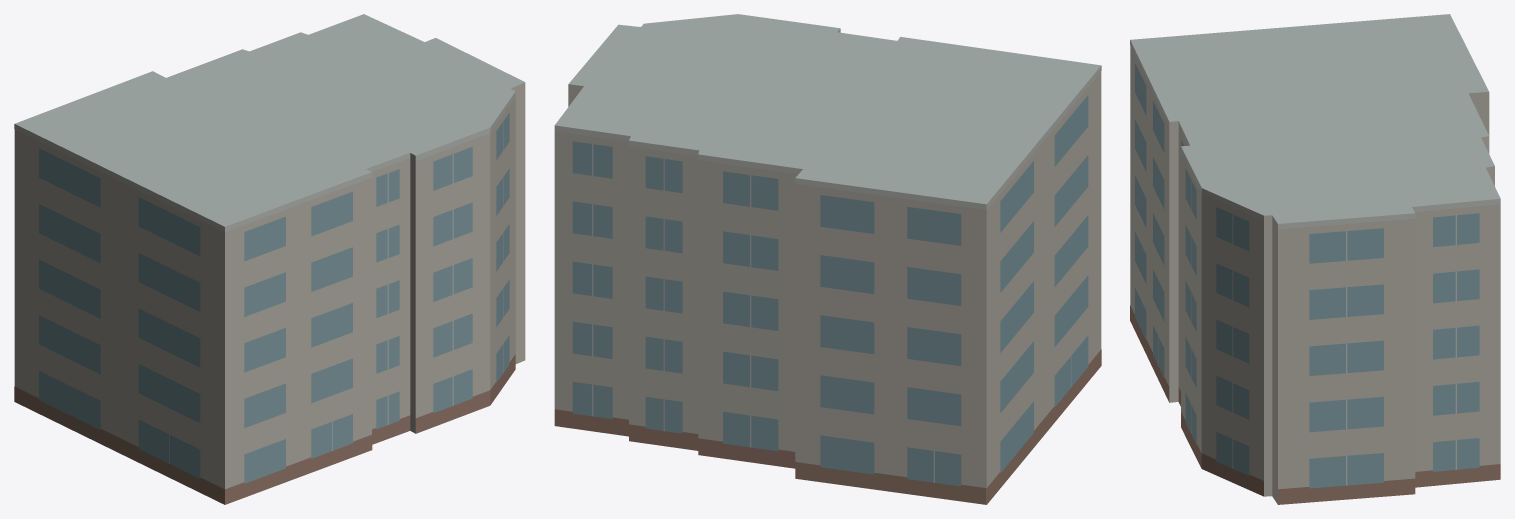
Rendered from survey-upis-32618715.glb.
The picture shows the model from 3 angles, left to right: view 1: azimuth 30°, elevation 25°; view 2: azimuth 150°, elevation 25°; view 3: azimuth 270°, elevation 25°; orthographic projection. The views are drawn at different scales.
Parts seen in each view (by area): view 1: survey-upis-32618715.tmp; view 2: survey-upis-32618715.tmp; view 3: survey-upis-32618715.tmp.
Part boxes in pixels (x1=…): survey-upis-32618715.tmp: x1=14, y1=14, x2=525, y2=504; survey-upis-32618715.tmp: x1=554, y1=14, x2=1101, y2=504; survey-upis-32618715.tmp: x1=1130, y1=14, x2=1500, y2=504.
Bounding box in the file's own units: 20.21 × 12.6 × 15.07.
